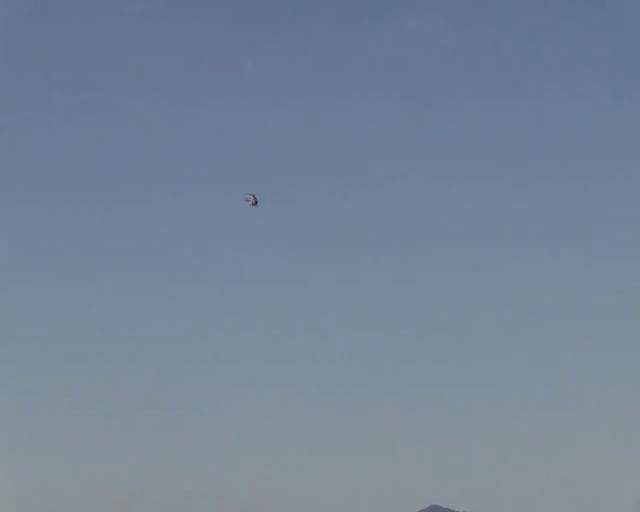HELICOPTER: (245, 192, 258, 206)
